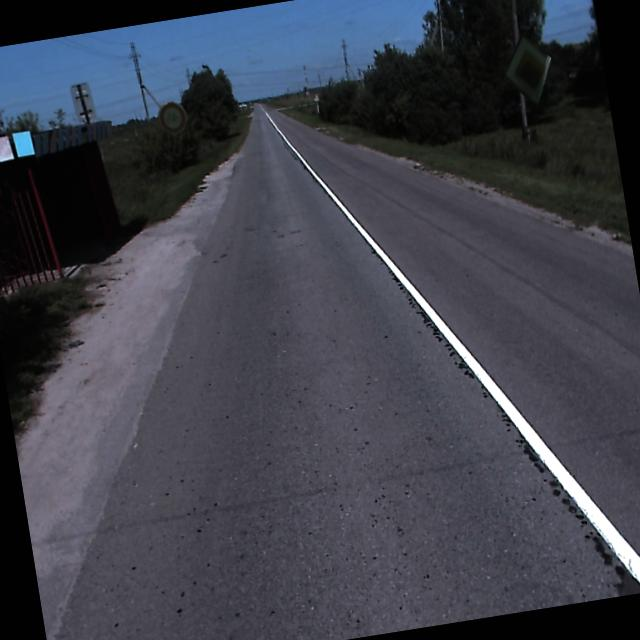road: (52, 103, 640, 640)
